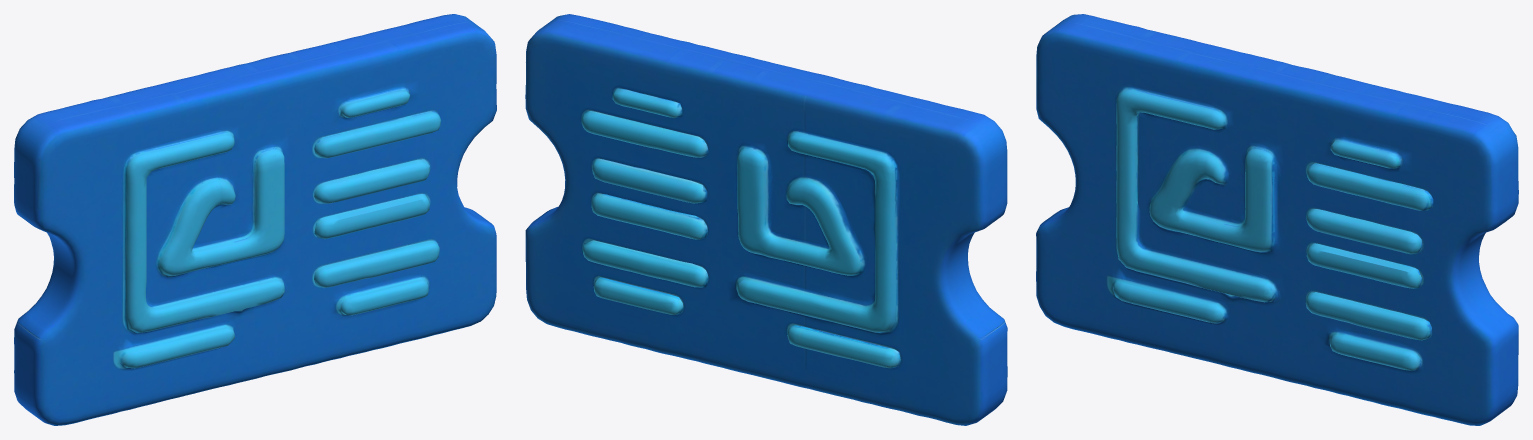
The model's file is ticket.glb.
3 renders of one model, left to right at view 1: azimuth 30°, elevation 25°; view 2: azimuth 150°, elevation 25°; view 3: azimuth 330°, elevation 25°, orthographic.
Visible parts, largest first — view 1: Mesh0; view 2: Mesh0; view 3: Mesh0.
Part boxes in pixels (<box>): Mesh0: <box>14,14,496,425</box>; Mesh0: <box>525,14,1007,425</box>; Mesh0: <box>1036,14,1518,425</box>.
Bounding box in the file's own units: 1.99 × 1.23 × 0.2918.
1 material, 1 textured.
